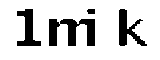1: (14, 5, 44, 48)
i: (79, 5, 105, 51)
k: (115, 7, 152, 58)
n: (49, 14, 79, 51)
